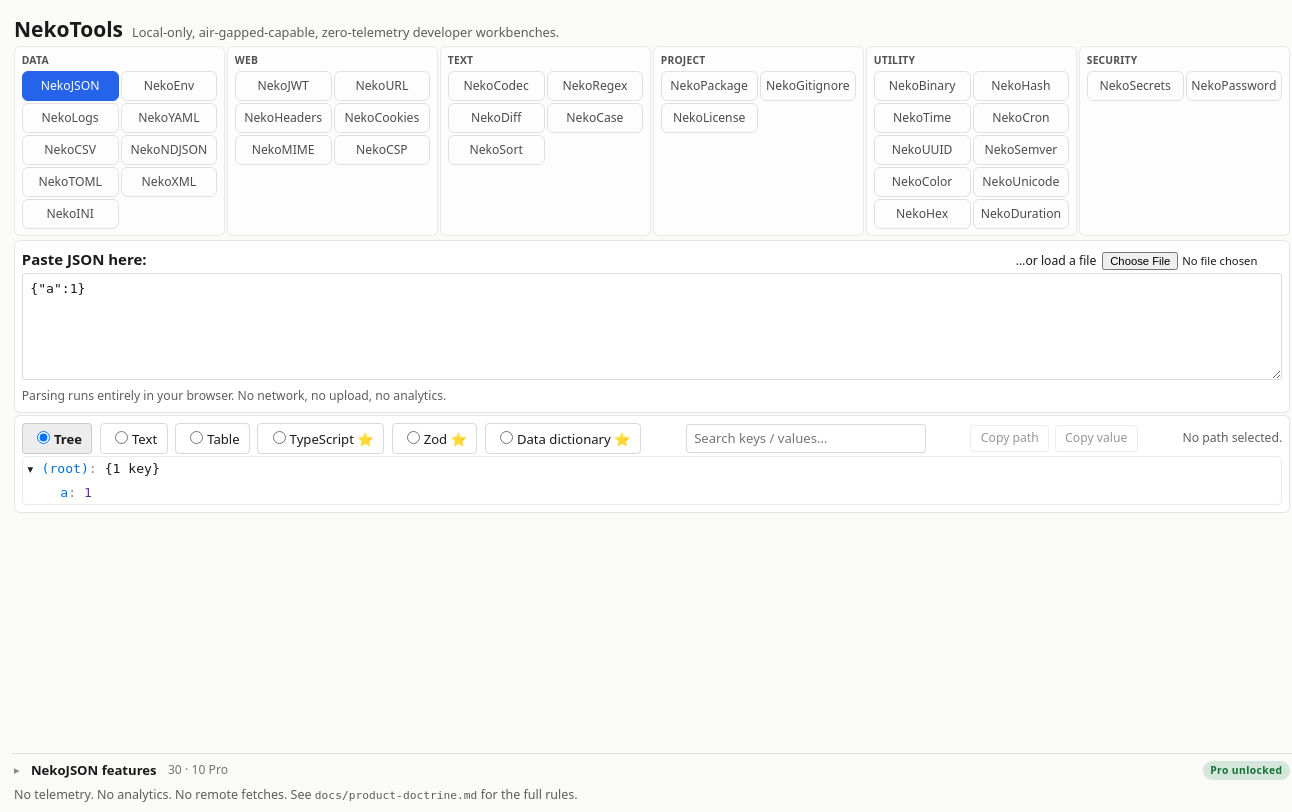
Test: App integration › NekoURL slice: the NekoURL tab is visible and toggles its panel (others stay mounted)
The width and height of the screenshot is (1292, 812).
Click the button with test id "tool-tab-url".
click(382, 86)  # box left=334, top=71, right=430, bottom=101
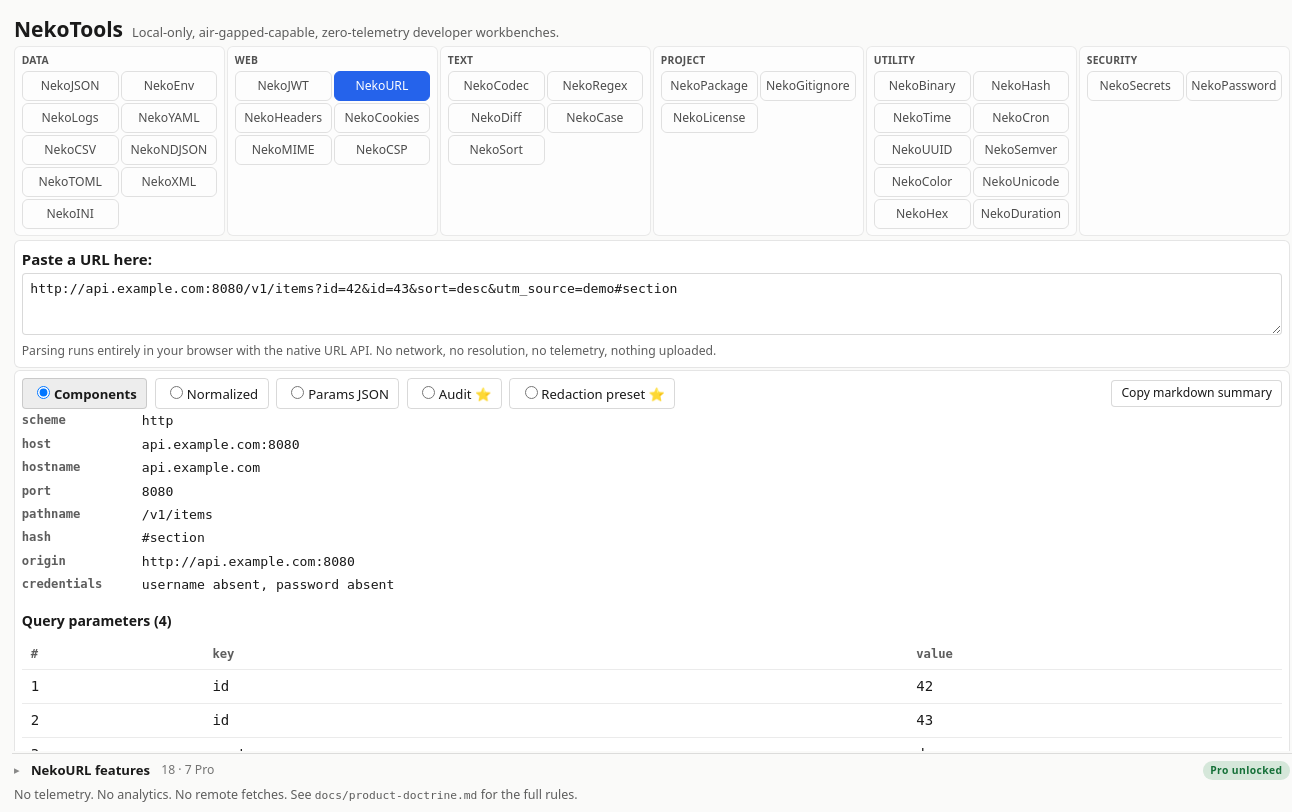
Check: the element with test id "tool-panel-url" is shown
Check: the element with test id "tool-panel-json" is gone
